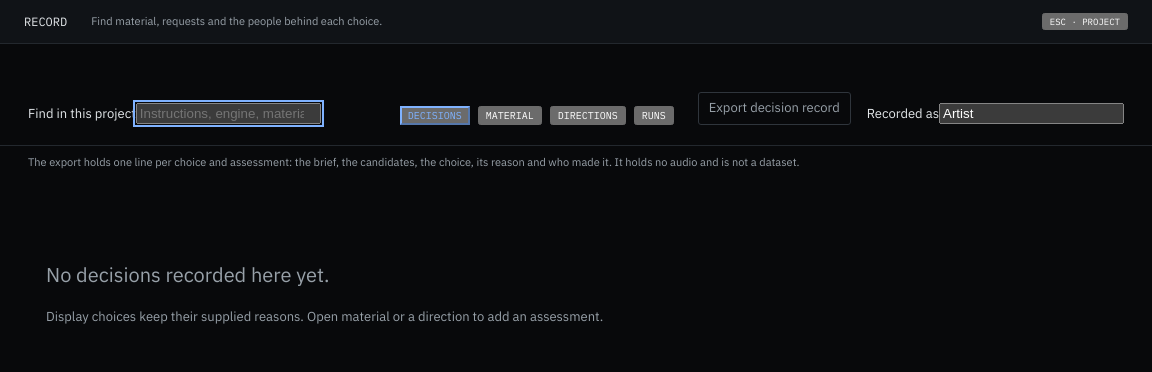
Scenario: the record room › lists an audio take's measured length, and no take of a blind run still in flight (law 17)
Click the button "Material".
click(510, 115)  # box 478,106 -> 542,125
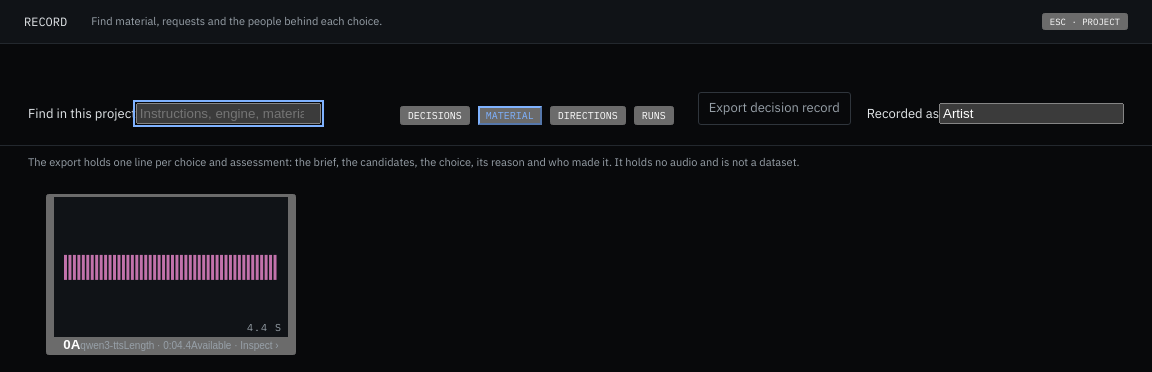
Expected: the text "Length · 0:04.4" is shown, 124,340 -> 191,351
Expected: the number of buttons "Inspect" is 1, 46,194 -> 296,355
